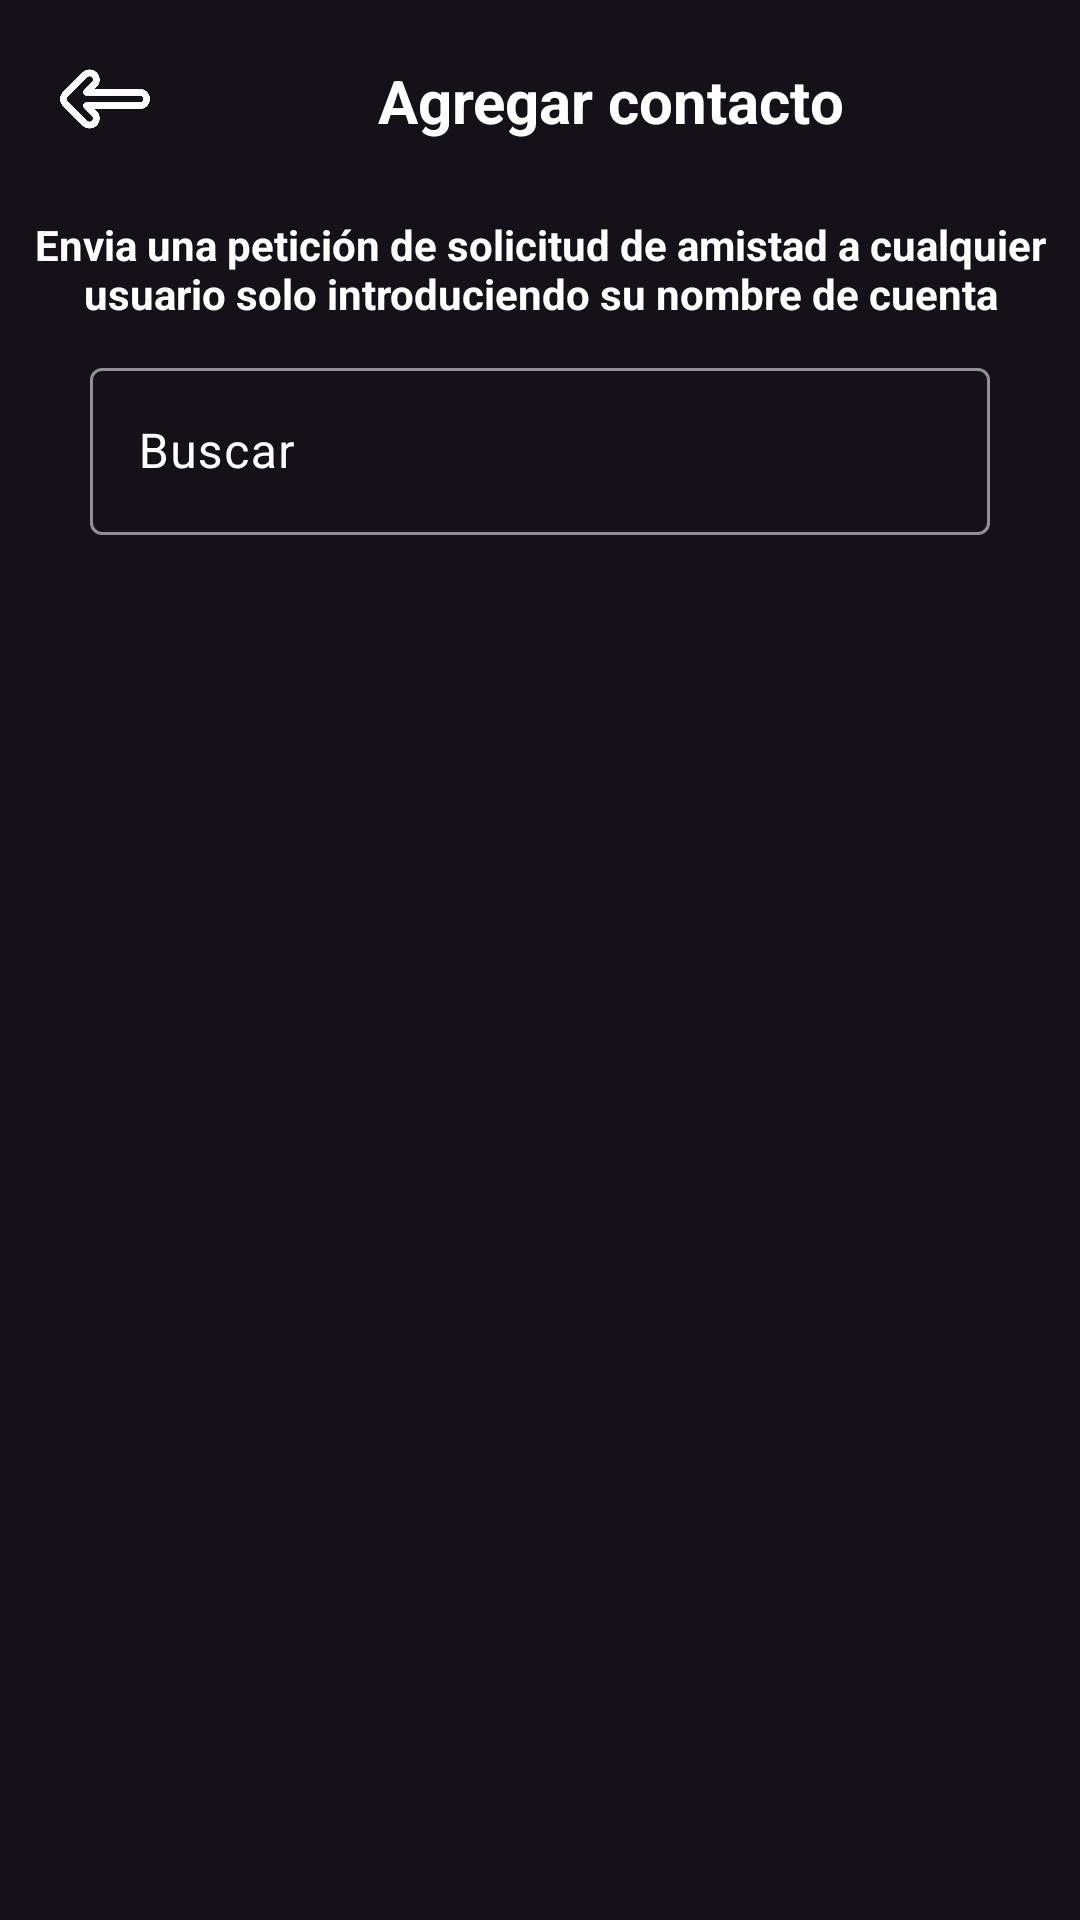

Screen size 1080×1920. Icon name, then its center in pixels as point (x, y):
volver: point (105, 99)
